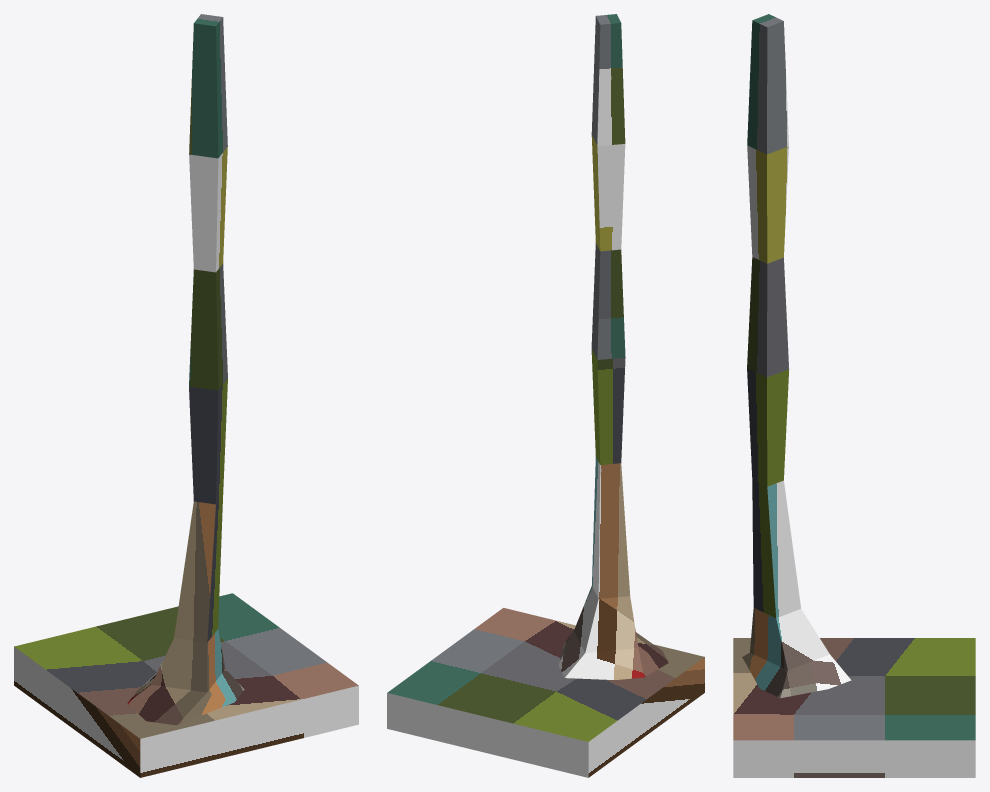
Rendered from LavaDecorationLargeConnectedStream1.fbx.
3 views of the same model, side by side, from view 1: azimuth 30°, elevation 25°; view 2: azimuth 150°, elevation 25°; view 3: azimuth 270°, elevation 25° (orthographic). The views are drawn at different scales.
Parts seen in each view (by area): view 1: LavaDecorationLargeConnectedStream1; view 2: LavaDecorationLargeConnectedStream1; view 3: LavaDecorationLargeConnectedStream1.
Boxes of the visible parts, x1=… form: LavaDecorationLargeConnectedStream1: x1=14, y1=14, x2=358, y2=777; LavaDecorationLargeConnectedStream1: x1=387, y1=14, x2=704, y2=777; LavaDecorationLargeConnectedStream1: x1=733, y1=14, x2=975, y2=777.
Bounding box in the file's own units: 1000 × 3162 × 1000.
Materials: 1 (1 with a texture image).
